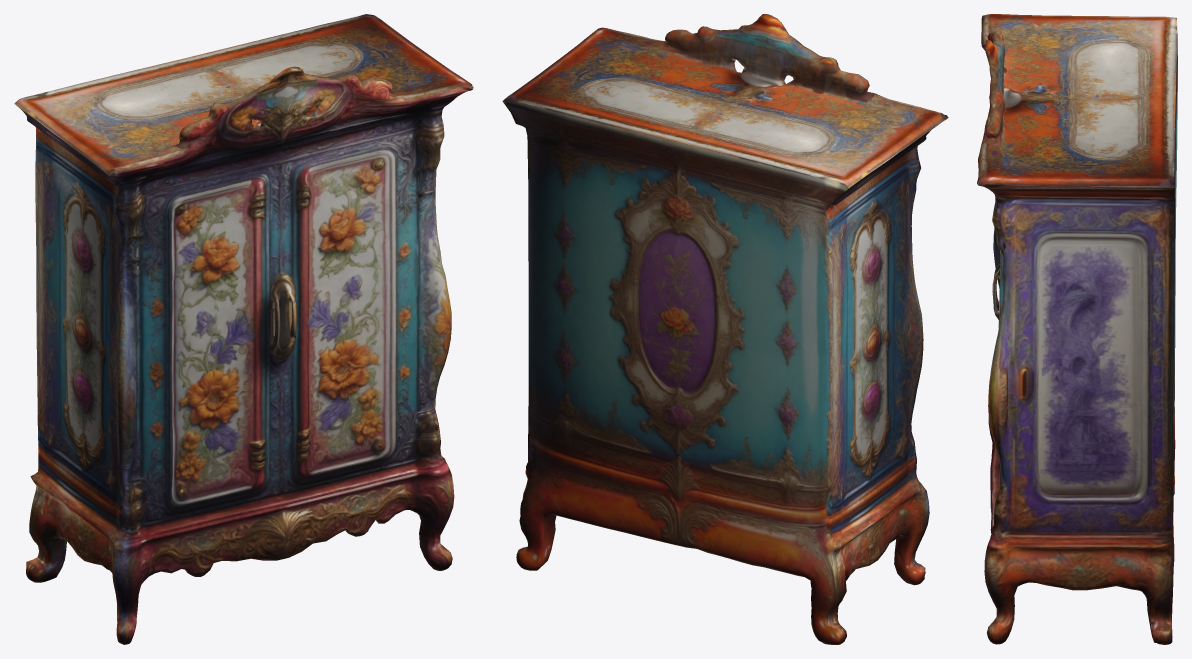
The model's file is ultra_detailed_cerami_0221231426_textur.fbx.
The picture shows the model from 3 angles, left to right: view 1: azimuth 30°, elevation 25°; view 2: azimuth 150°, elevation 25°; view 3: azimuth 270°, elevation 25°; orthographic projection. The views are drawn at different scales.
Visible parts, largest first — view 1: Mesh0; view 2: Mesh0; view 3: Mesh0.
Part boxes in pixels (x1=…): Mesh0: x1=14, y1=14, x2=473, y2=644; Mesh0: x1=502, y1=14, x2=948, y2=644; Mesh0: x1=977, y1=14, x2=1177, y2=644.
Size of the model in its own units: 139 by 199 by 68.42.
1 material, 1 textured.
